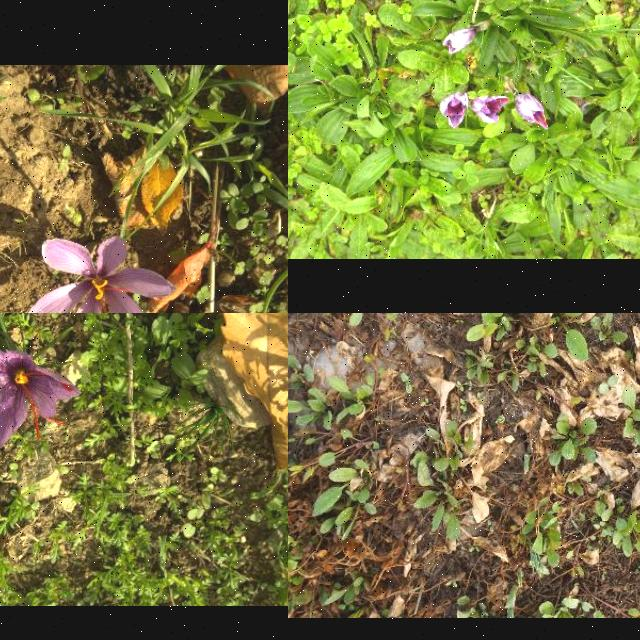flower: (26, 236, 172, 313), (0, 350, 84, 449), (514, 90, 548, 130), (470, 96, 510, 124), (441, 93, 469, 129), (442, 28, 478, 56)
